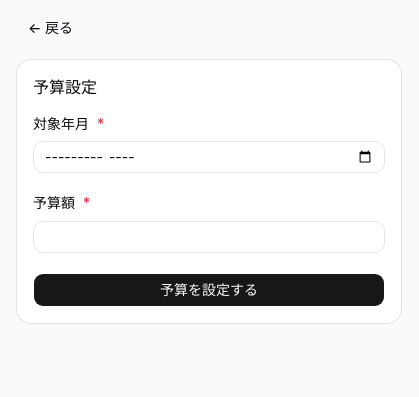
AddBudget › 必須項目(対象年月/予算額)を入力しないとエラーがでる
Click the button "予算を設定する" at (209, 290), box [33,272,385,306]
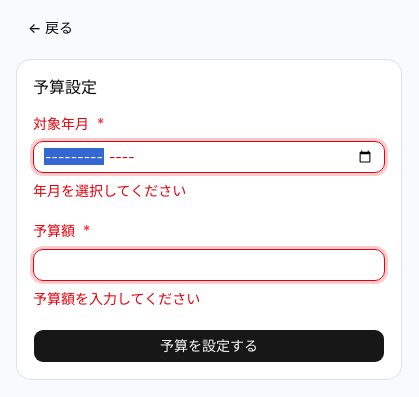
Result: the text "年月を選択してください" is shown at [33,182,186,199]
Result: the text "予算額を入力してください" is shown at [33,290,200,306]
